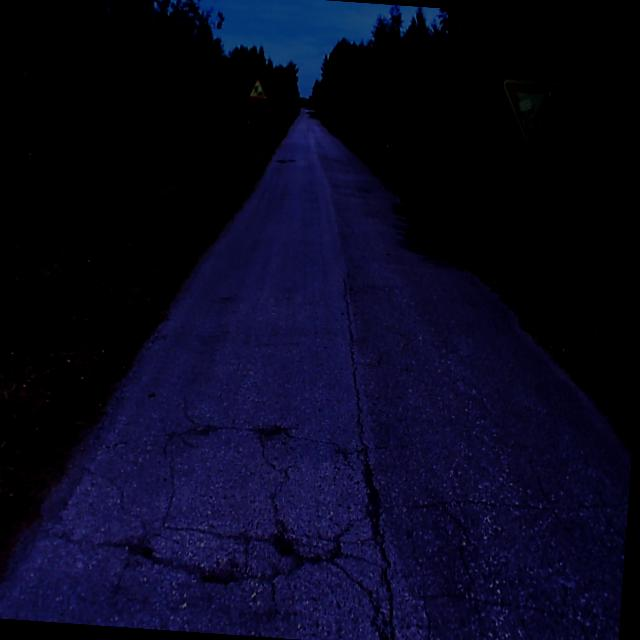road: (0, 110, 631, 640)
